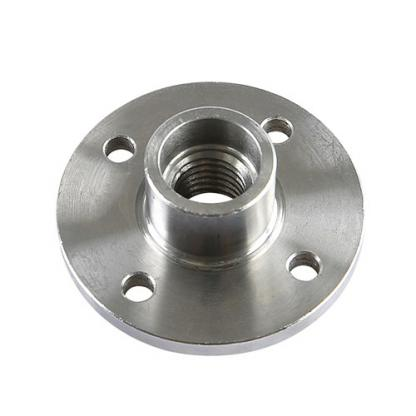FOD: (49, 73, 369, 358)
